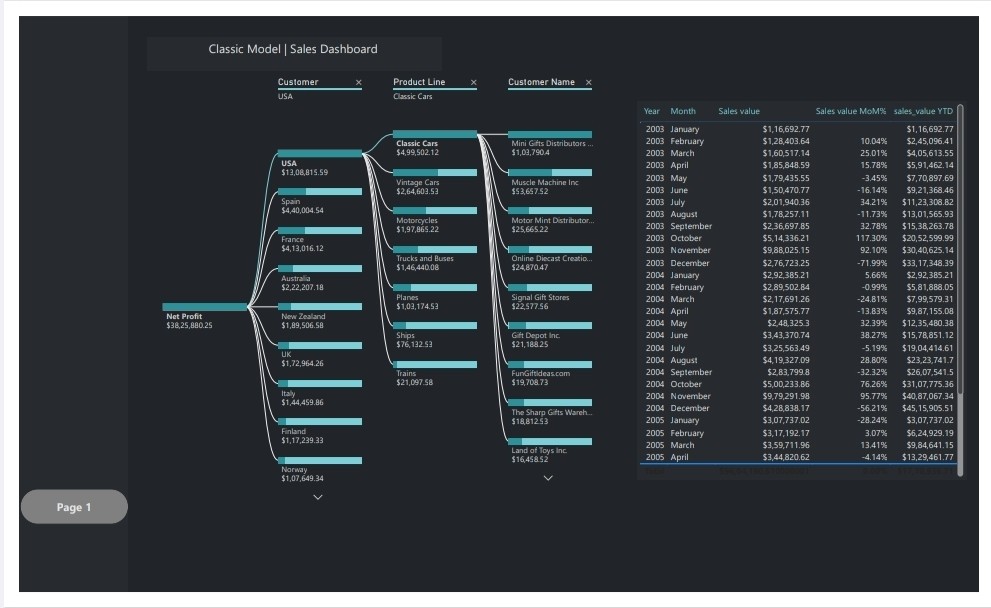

What the dashboard file says about the page in this screenshot:
{"tool":"powerbi","page":{"name":" sales overview page 2","canvas":[1500,900],"ordinal":1},"visuals":[{"type":"shape","box":[0,0,170,900.6],"z":0},{"type":"decompositionTreeVisual","fields":{"Analyze":["classicmodels sales_data_for_power_bi.Net Profit"],"ExplainBy":["classicmodels sales_data_for_power_bi.customer_country","classicmodels sales_data_for_power_bi.productLine","classicmodels sales_data_for_power_bi.customerName"]},"box":[195.2,77.3,751.9,732.6],"z":1},{"type":"tableEx","fields":{"Values":["classicmodels sales_data_for_power_bi.orderdate.Variation.Date Hierarchy.Year","classicmodels sales_data_for_power_bi.orderdate.Variation.Date Hierarchy.Month","Sum(classicmodels sales_data_for_power_bi.sales_value)","classicmodels sales_data_for_power_bi.sales_value MoM%","classicmodels sales_data_for_power_bi.sales_value YTD"]},"box":[966.5,133.4,514.2,591.5],"z":2},{"type":"actionButton","box":[1.9,740.3,168.2,54.1],"z":3},{"type":"textbox","box":[201,32.9,460.1,52.2],"z":4}]}

Visuals, with their boxes on the page's 1500x900 design canvas (x1, y1, x2, y2). These are canvas units, not pixel positions in the 991x608 screenshot, which may show the page scaled, cropped or inside an application window:
shape: bbox=[0, 0, 170, 901]
decompositionTreeVisual - classicmodels sales_data_for_power_bi.Net Profit x classicmodels sales_data_for_power_bi.customer_country: bbox=[195, 77, 947, 810]
tableEx - classicmodels sales_data_for_power_bi.orderdate.Variation.Date Hierarchy.Year x classicmodels sales_data_for_power_bi.orderdate.Variation.Date Hierarchy.Month: bbox=[966, 133, 1481, 725]
actionButton: bbox=[2, 740, 170, 794]
textbox: bbox=[201, 33, 661, 85]
